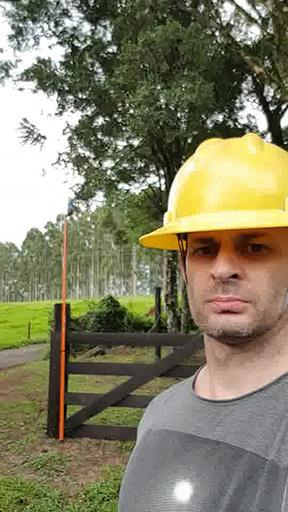Vara_Manobra: (58, 221, 68, 443)
